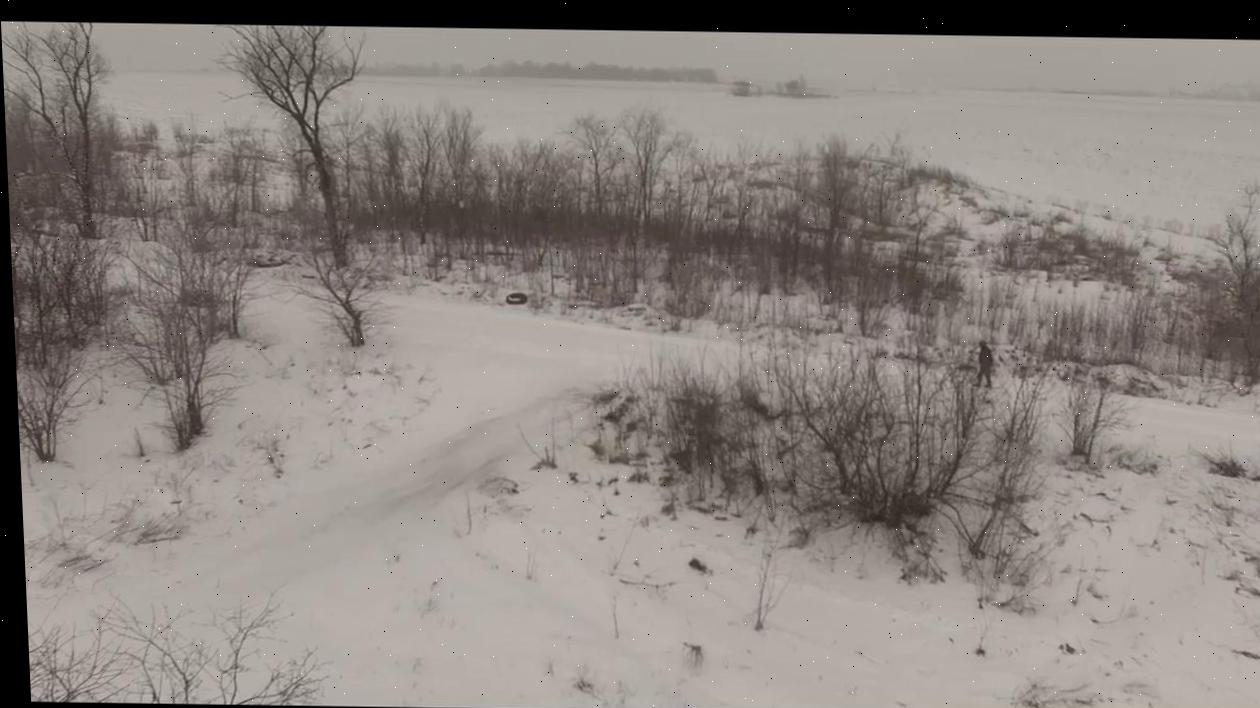person: (970, 340, 995, 389)
